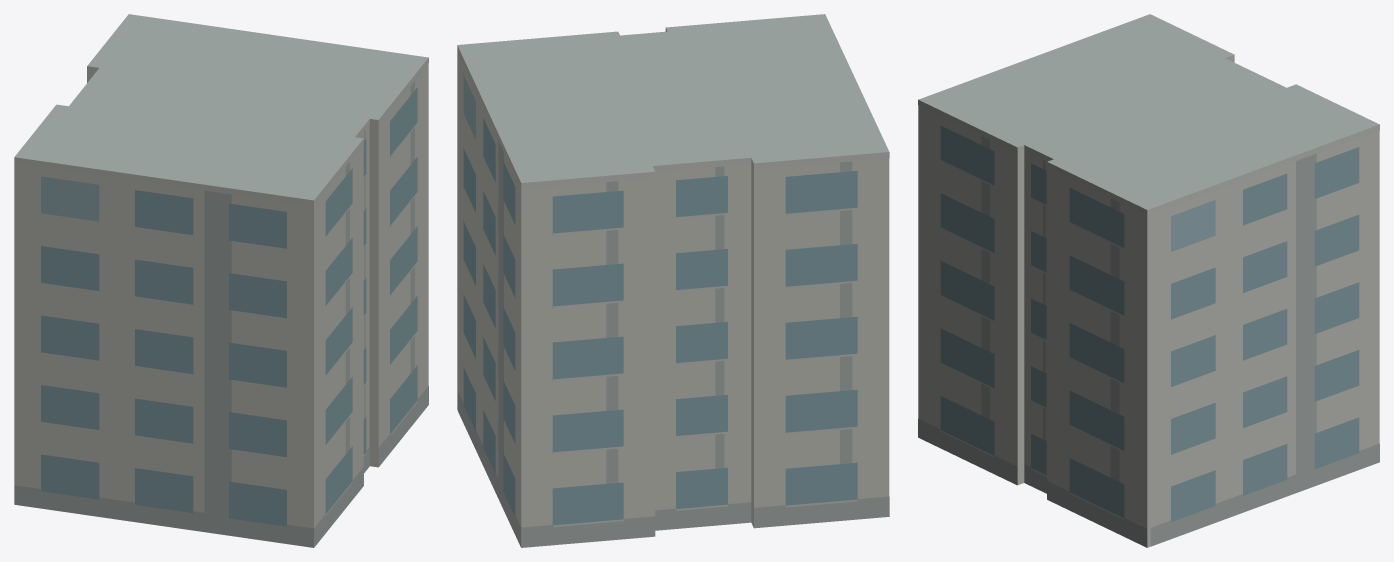
Rendered from survey-upis-32889214.glb.
3 renders of one model, left to right at view 1: azimuth 30°, elevation 25°; view 2: azimuth 150°, elevation 25°; view 3: azimuth 270°, elevation 25°, orthographic. The views are drawn at different scales.
Parts seen in each view (by area): view 1: survey-upis-32889214.tmp; view 2: survey-upis-32889214.tmp; view 3: survey-upis-32889214.tmp.
Part boxes in pixels (x1,y1,x2,y2): survey-upis-32889214.tmp: (14,14,428,547); survey-upis-32889214.tmp: (457,14,889,547); survey-upis-32889214.tmp: (918,14,1379,547).
Bounding box in the file's own units: 17.67 × 14.2 × 17.59.
